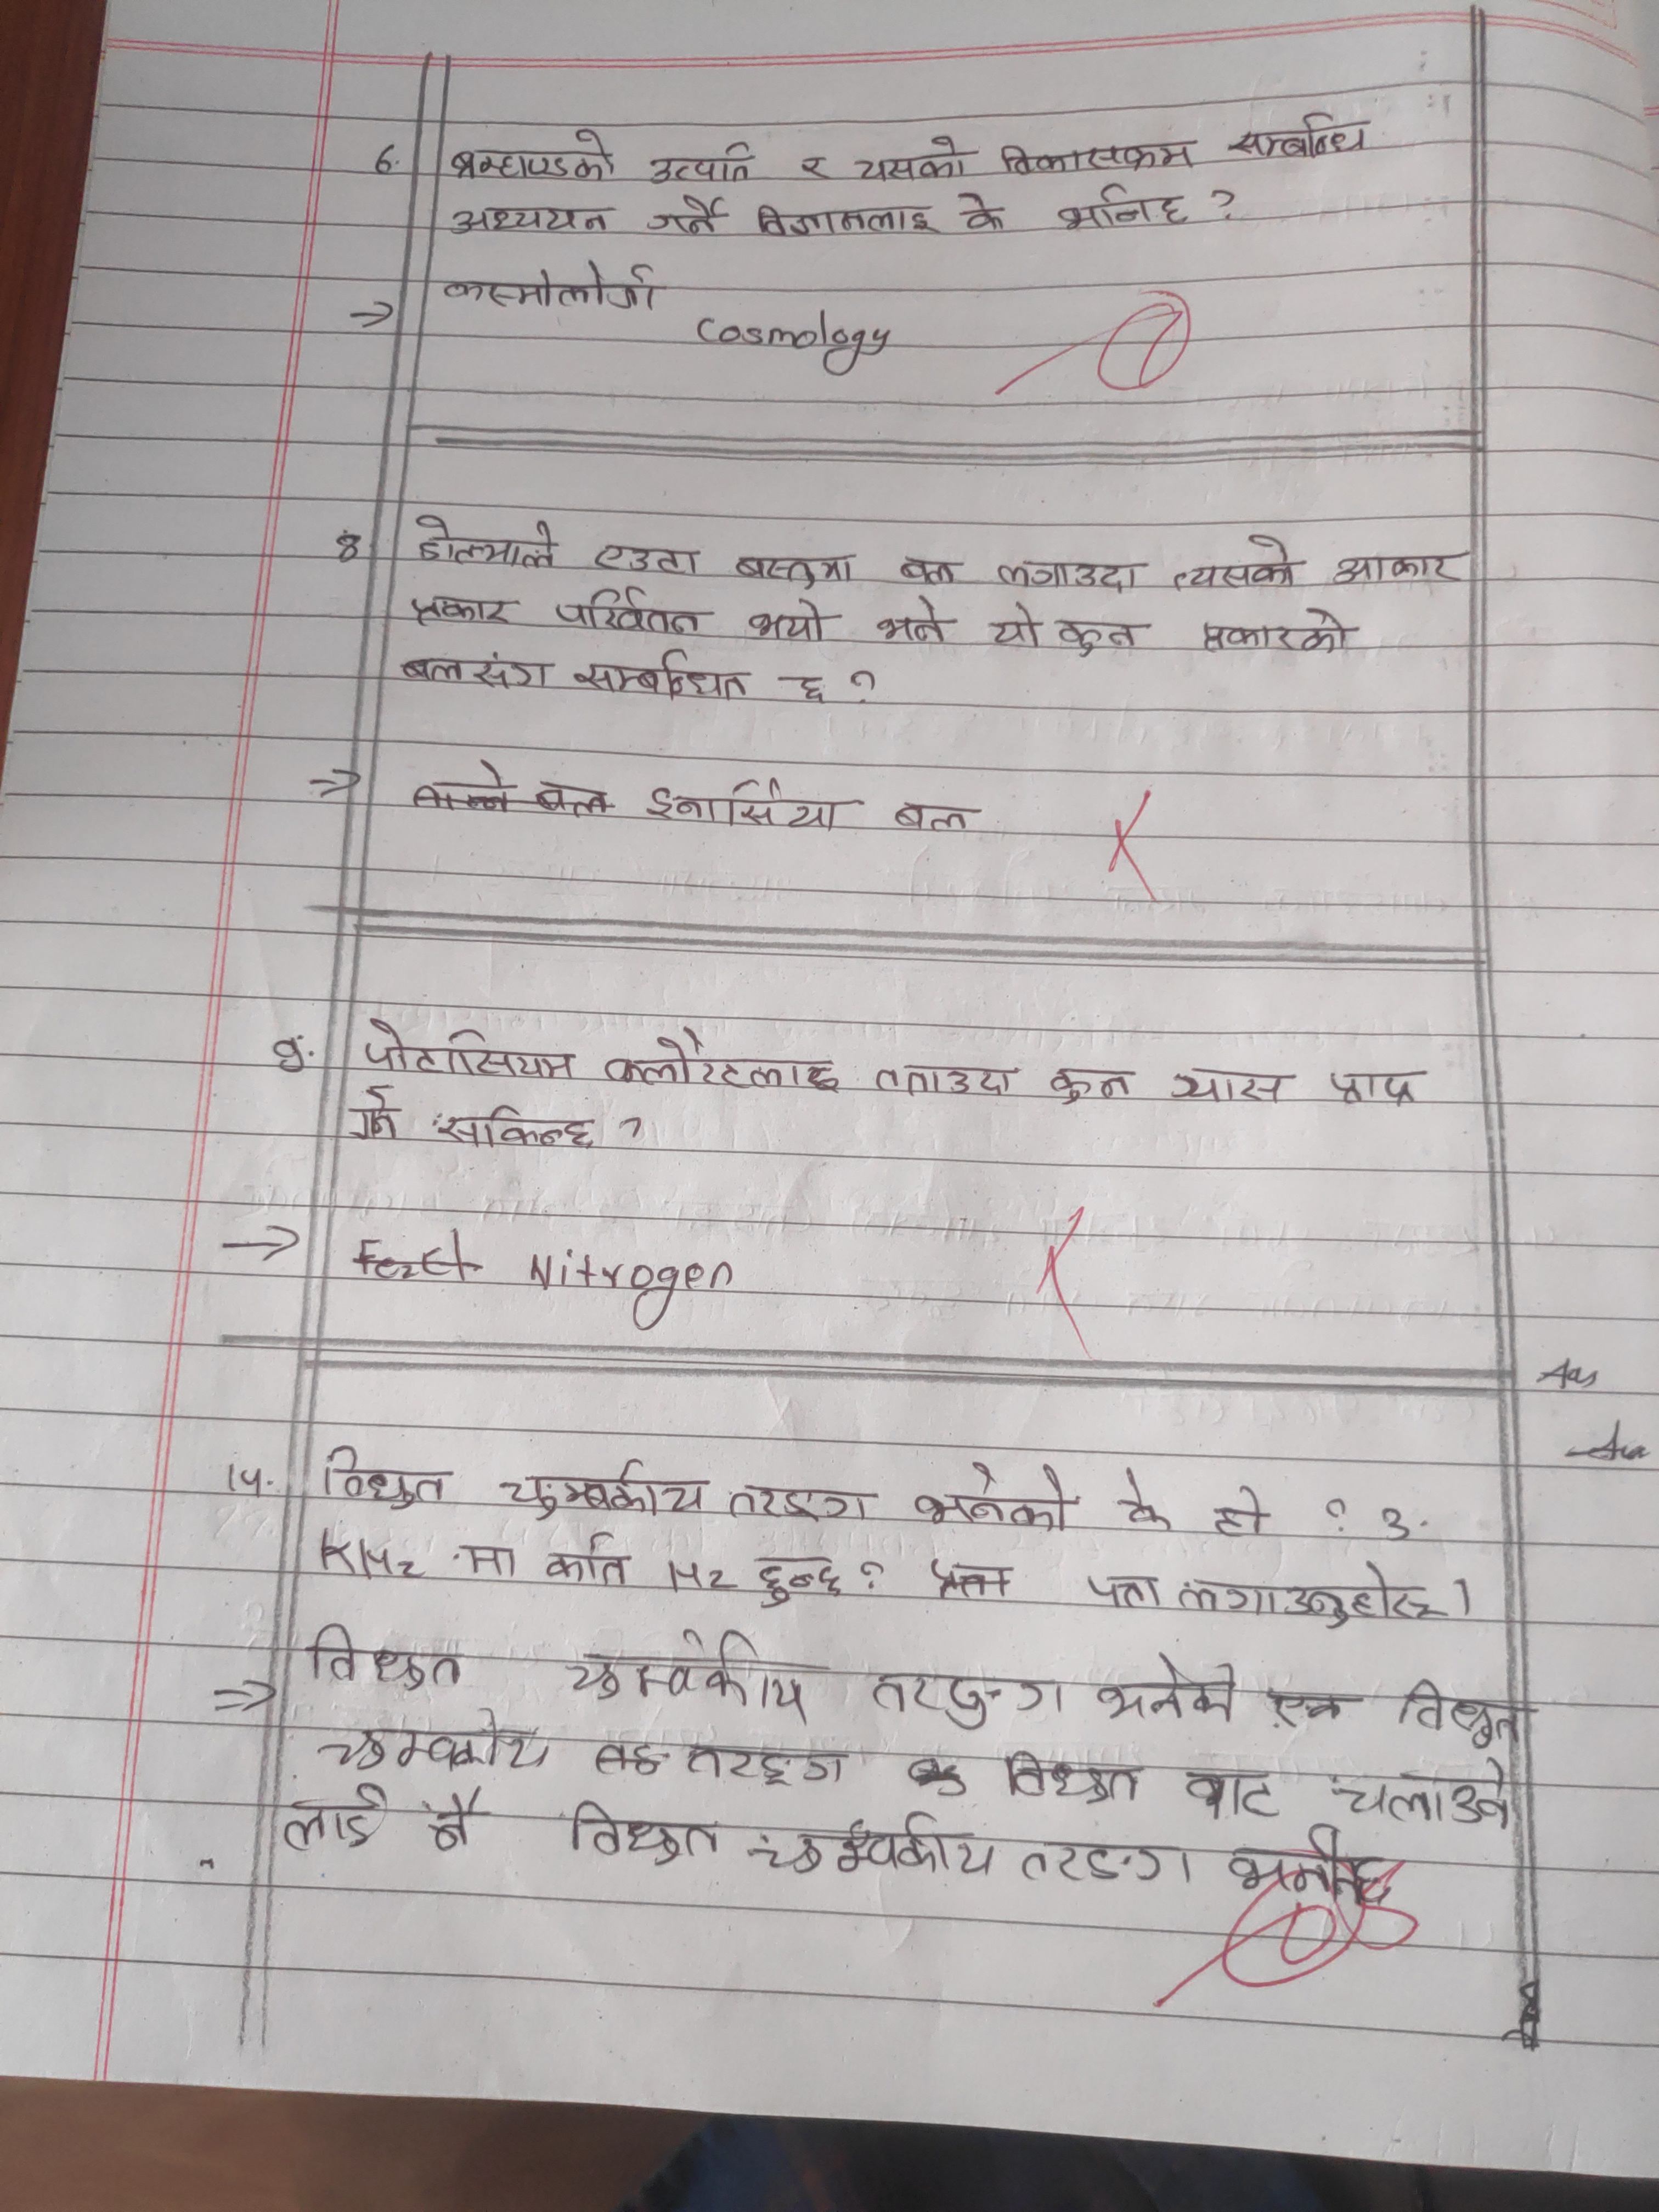text: (565, 1627, 812, 1717), (748, 1808, 1002, 1885), (1175, 1557, 1446, 1629), (598, 1022, 847, 1090), (315, 1709, 558, 1773), (1223, 1825, 1399, 1907), (866, 1662, 1070, 1731), (498, 1458, 713, 1522), (352, 1019, 579, 1080), (1331, 1757, 1516, 1827), (906, 1465, 1073, 1536), (439, 263, 667, 315), (310, 1620, 471, 1693), (1014, 1829, 1194, 1893), (641, 780, 845, 836), (563, 1797, 725, 1867), (448, 124, 617, 190), (406, 503, 559, 575), (1094, 1653, 1244, 1724), (572, 646, 756, 702), (993, 132, 1202, 181), (1197, 601, 1363, 660), (1394, 1677, 1527, 1750), (317, 1444, 457, 1510), (429, 1099, 605, 1150), (1225, 106, 1375, 165), (678, 1737, 850, 1787), (1000, 1747, 1143, 1808), (1166, 533, 1304, 596), (552, 582, 716, 634), (746, 200, 943, 242), (1046, 181, 1194, 235), (281, 1778, 382, 1855), (725, 1479, 884, 1527), (443, 199, 613, 242), (992, 554, 1155, 597), (397, 646, 556, 690), (875, 1059, 1019, 1104), (1328, 547, 1473, 590), (1180, 1764, 1284, 1824), (735, 543, 861, 592), (854, 132, 974, 181), (538, 1531, 634, 1588), (749, 1554, 845, 1609), (1169, 1062, 1291, 1106), (1039, 1057, 1145, 1106), (647, 141, 760, 186), (1110, 1460, 1176, 1536), (744, 596, 835, 650), (406, 589, 519, 631), (1049, 613, 1154, 658), (868, 594, 955, 648), (591, 538, 701, 580), (1321, 1068, 1429, 1109), (643, 192, 730, 242), (1209, 1480, 1276, 1543), (1073, 1568, 1164, 1613), (425, 1787, 488, 1851), (347, 1080, 404, 1143), (1267, 1688, 1352, 1728), (892, 799, 981, 836), (890, 547, 962, 590), (985, 596, 1042, 650), (451, 1541, 528, 1581), (955, 193, 1016, 235), (775, 669, 835, 707), (795, 152, 838, 183)
